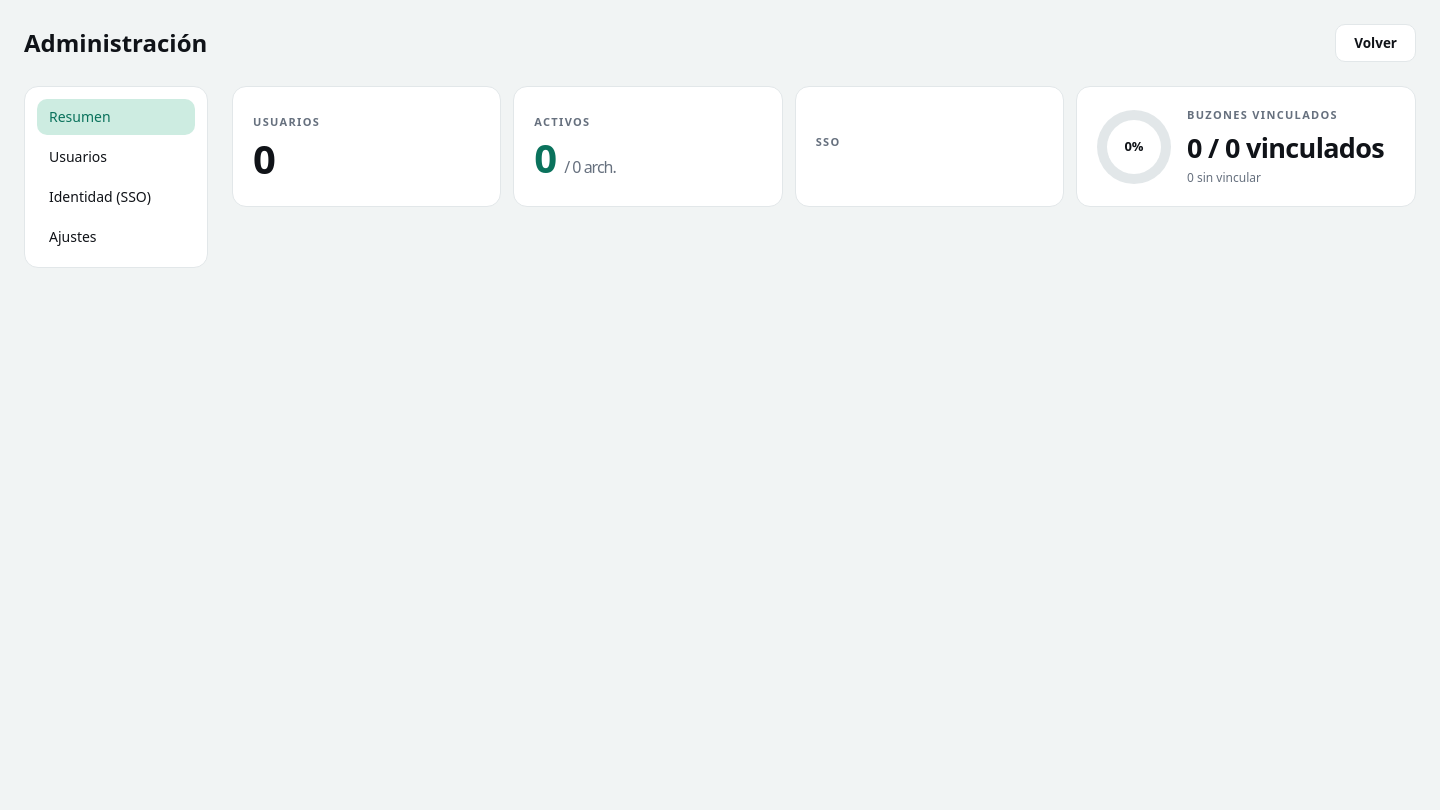
AdminPage users table server-driven pagination and search › shows only the first 25 users and a range count when there are more than a page's worth
Click the button "Usuarios".
click(116, 157)  # box x1=37 y1=139 x2=195 y2=175
(page scrolled)
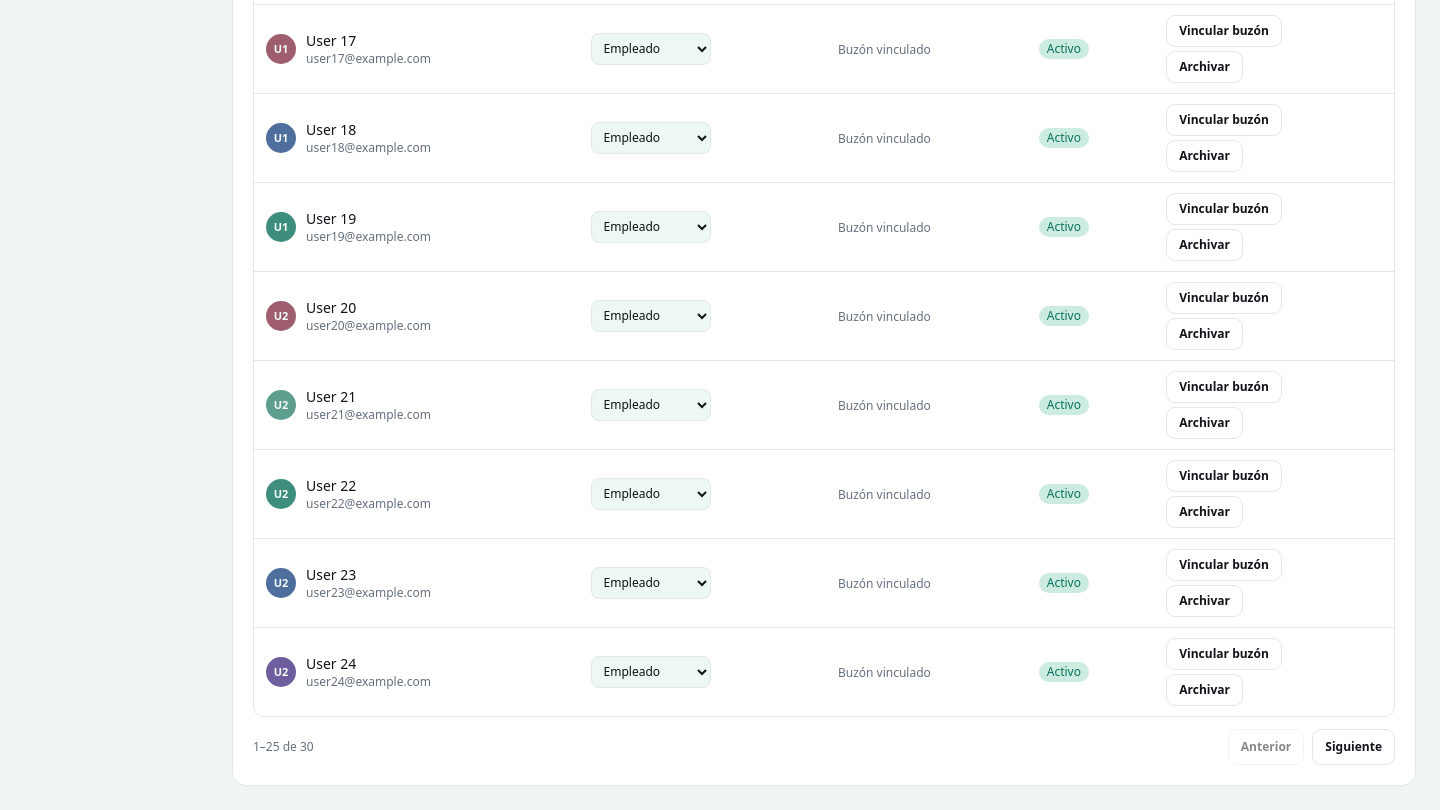
Expected: the text "user24@example.com" is shown, x1=306 y1=674 x2=431 y2=690
